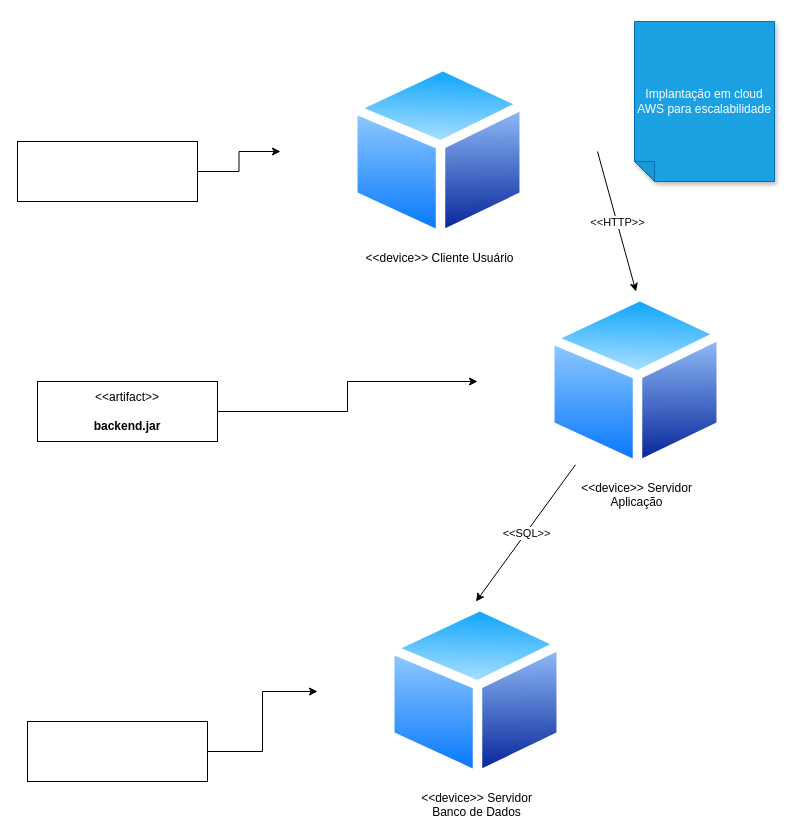
The diagram is 812 pixels wide and 838 high, and some of its shapes have lost their labels. The shapes that lost their labels are listed below. From the top down, each one's centre as x and y in pixels, then its label:
At point (107, 171): "<<artifact>> browser.exe".
At point (117, 751): "<<artifact>> tarefas.db".
